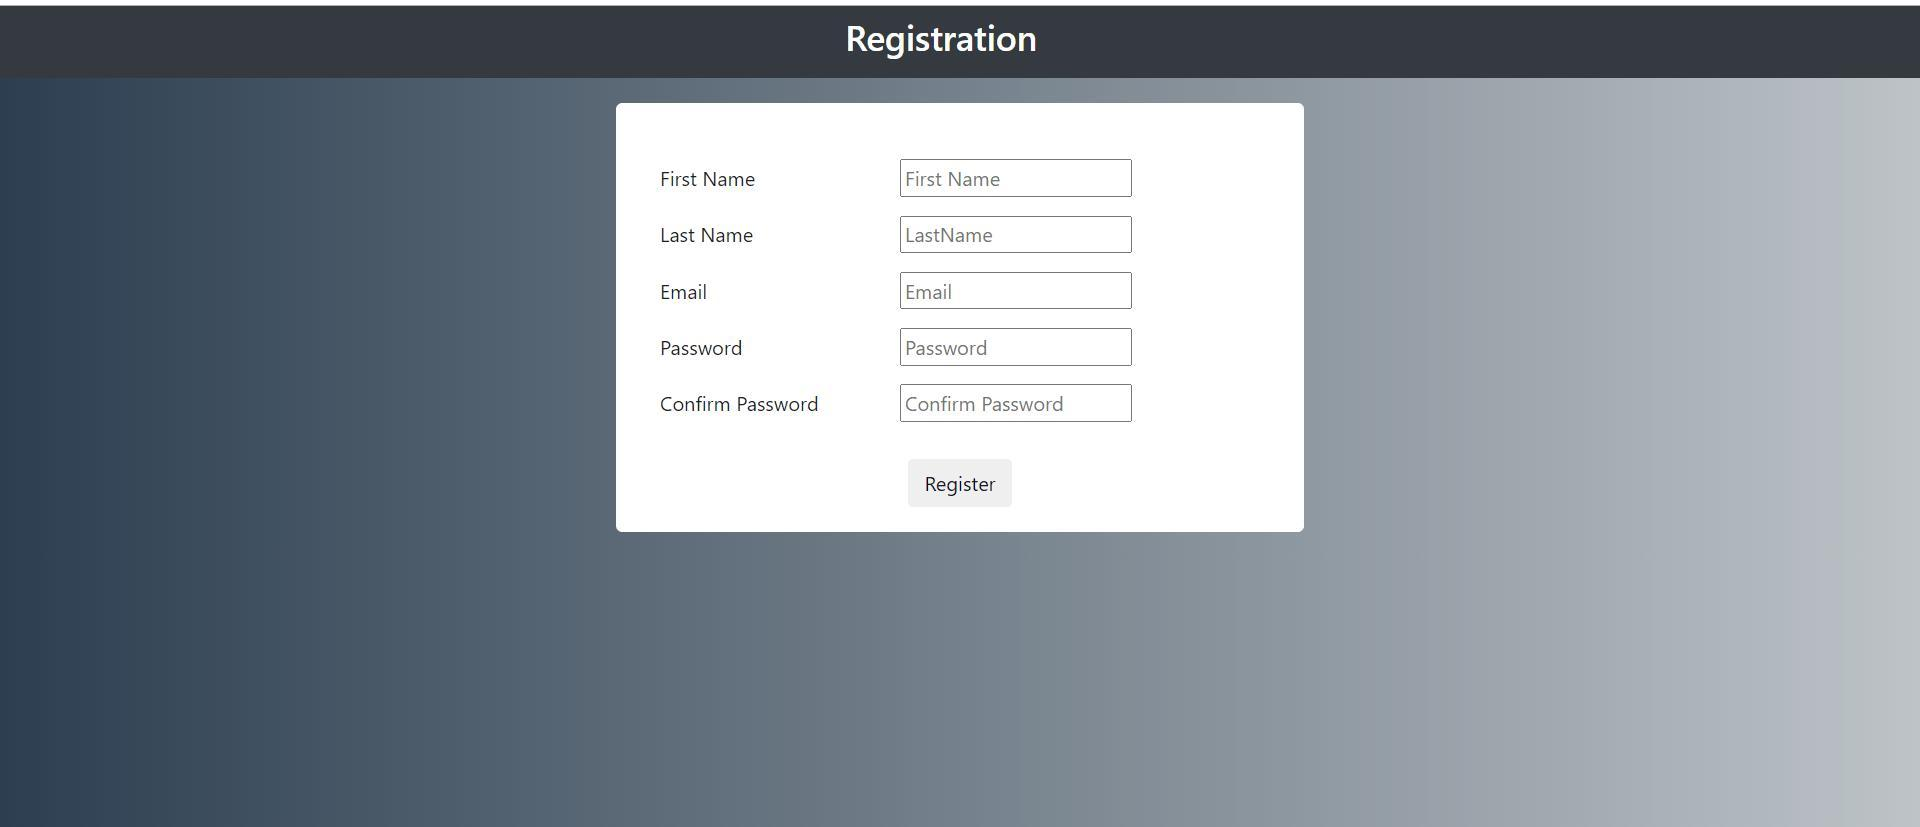button: (911, 461, 1011, 506)
input: (901, 327, 1134, 369), (900, 383, 1133, 424), (902, 271, 1134, 311), (901, 159, 1133, 198), (901, 217, 1133, 251)
label: (656, 395, 825, 419), (658, 224, 756, 252), (658, 339, 749, 364), (658, 172, 759, 194), (658, 281, 711, 305)
